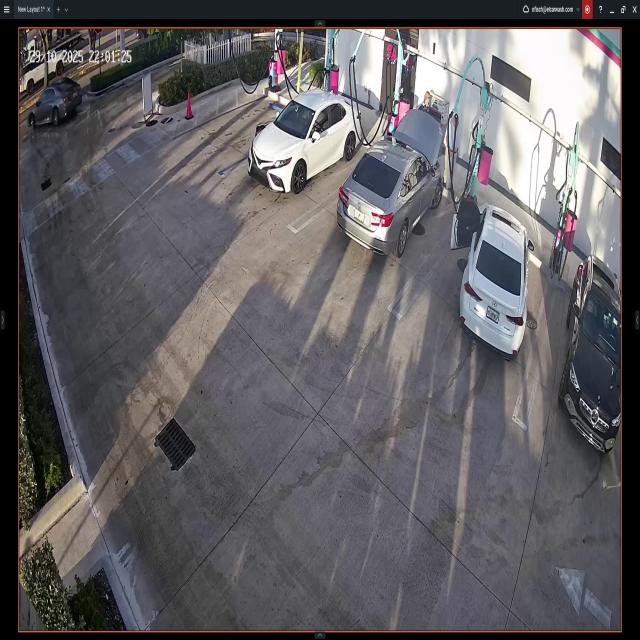Car: (326, 108, 445, 254), (448, 195, 532, 360), (250, 89, 361, 193), (567, 252, 621, 453), (28, 77, 82, 134)
